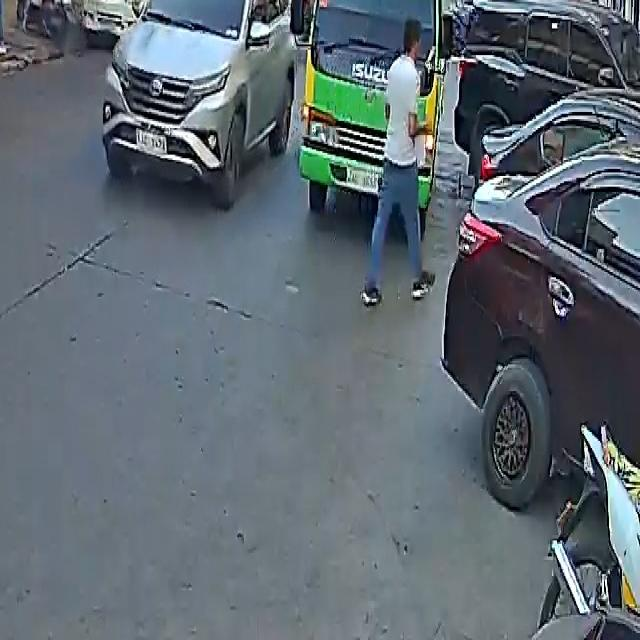car: (442, 149, 640, 525), (99, 0, 298, 201), (452, 0, 639, 174), (79, 0, 197, 50)
